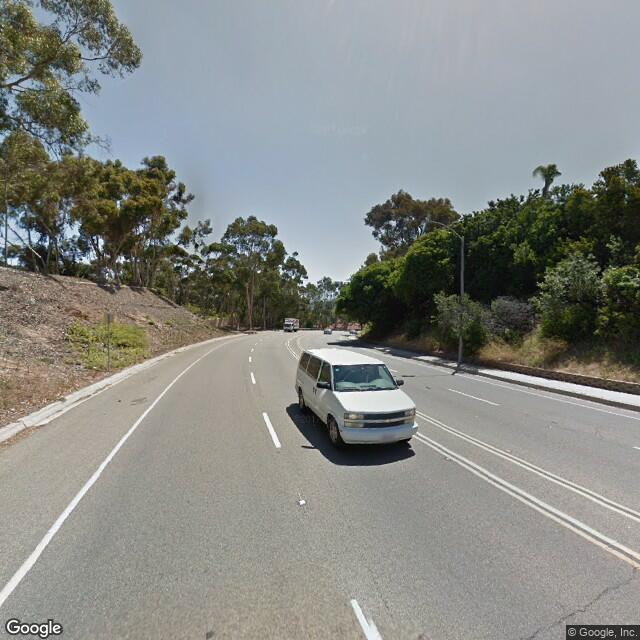litter: (116, 397, 124, 403), (91, 365, 99, 370)
